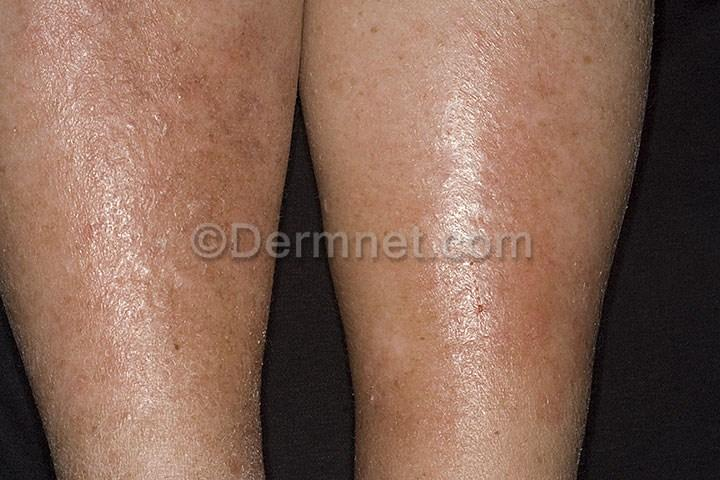Eczema: (19, 0, 284, 206), (380, 14, 576, 227), (71, 263, 256, 460), (393, 257, 563, 457), (78, 209, 195, 273)
